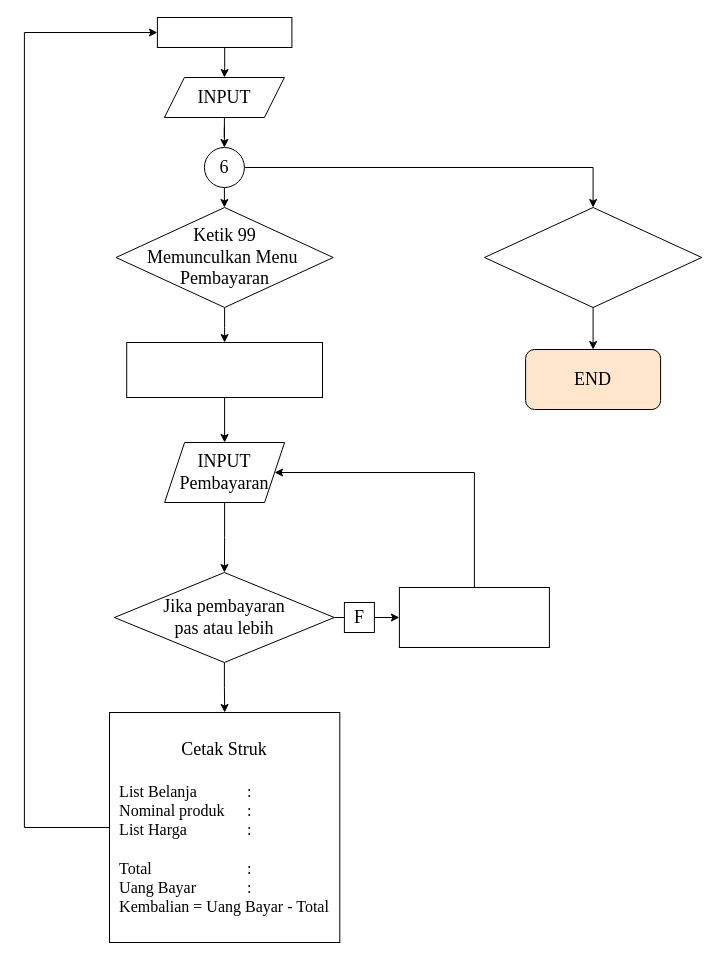
The diagram is 720 pixels wide and 960 high, and some of its shapes have lost their labels. Each missing label, with the centre of its shape:
"Ketik 11 Program akan Exit" belongs at point 593,257.
"MENU UTAMA" belongs at point 224,32.
"Pembayaran Kurang" belongs at point 473,617.
"Total = sum(list harga )" belongs at point 224,370.
